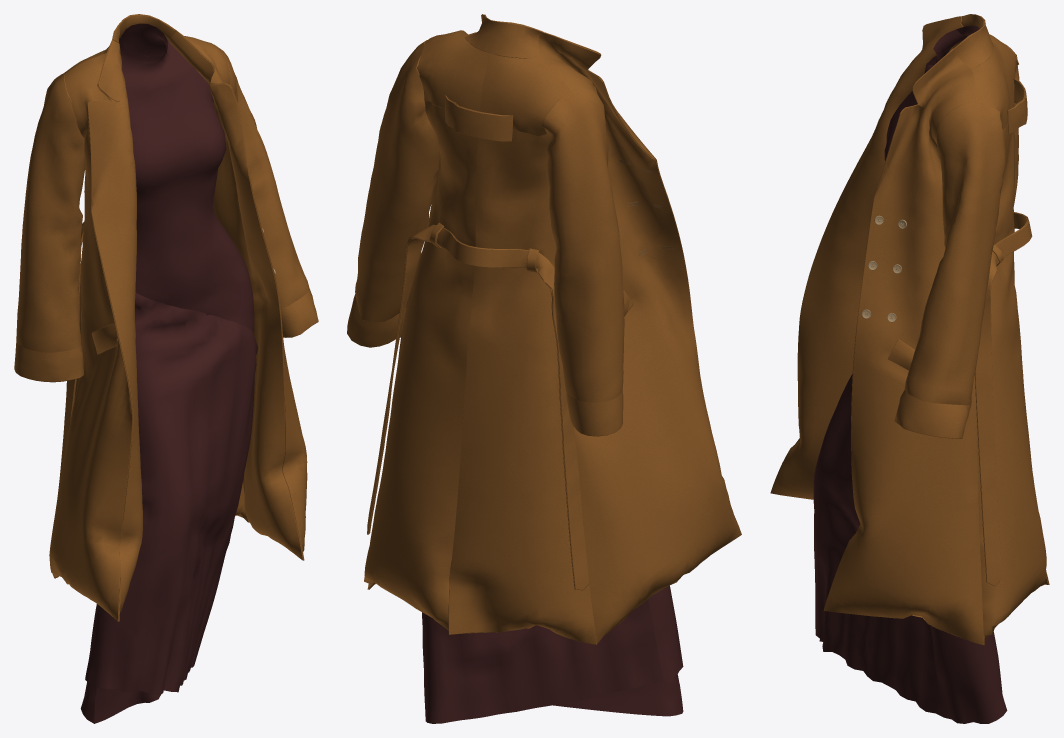
Rendered from march12_gltf_look6_v4.gltf.
The picture shows the model from 3 angles, left to right: view 1: azimuth 30°, elevation 25°; view 2: azimuth 150°, elevation 25°; view 3: azimuth 270°, elevation 25°; orthographic projection. The views are drawn at different scales.
Visible parts, largest first — view 1: march12_fbx_look6_v1; view 2: march12_fbx_look6_v1; view 3: march12_fbx_look6_v1.
Part boxes in pixels (x1,y1,x2,y2): march12_fbx_look6_v1: (14,14,318,723); march12_fbx_look6_v1: (347,14,741,723); march12_fbx_look6_v1: (770,14,1049,723).
Size of the model in its own units: 0.6625 by 1.47 by 0.5492.
Materials: 5 (4 with a texture image).
